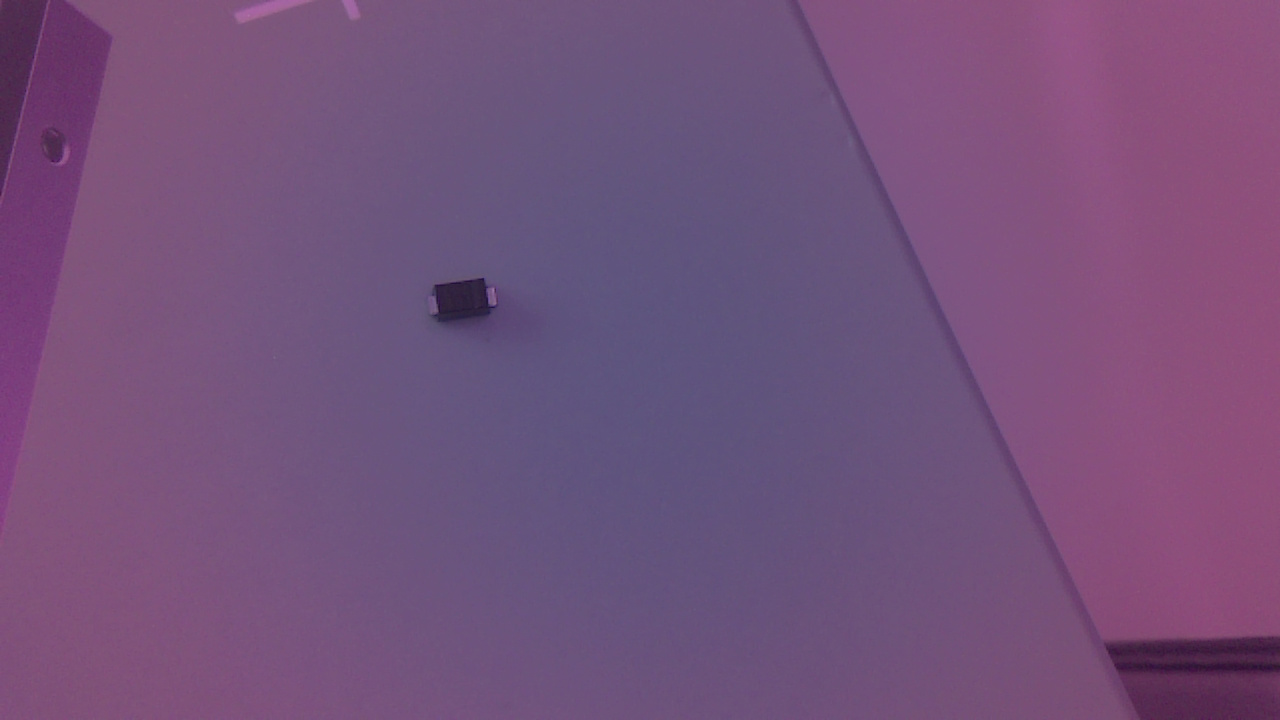Diode: (426, 278, 510, 332)
